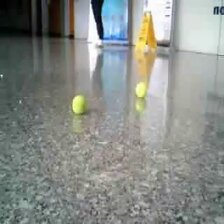tennis: (72, 95, 86, 114), (135, 82, 147, 98)
